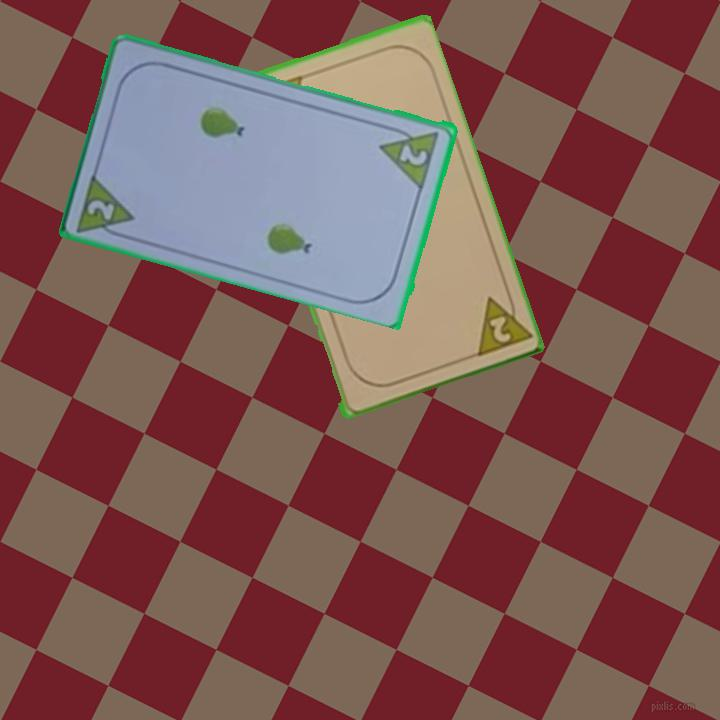2p: (468, 285, 532, 360), (377, 121, 443, 190), (83, 195, 119, 223)
